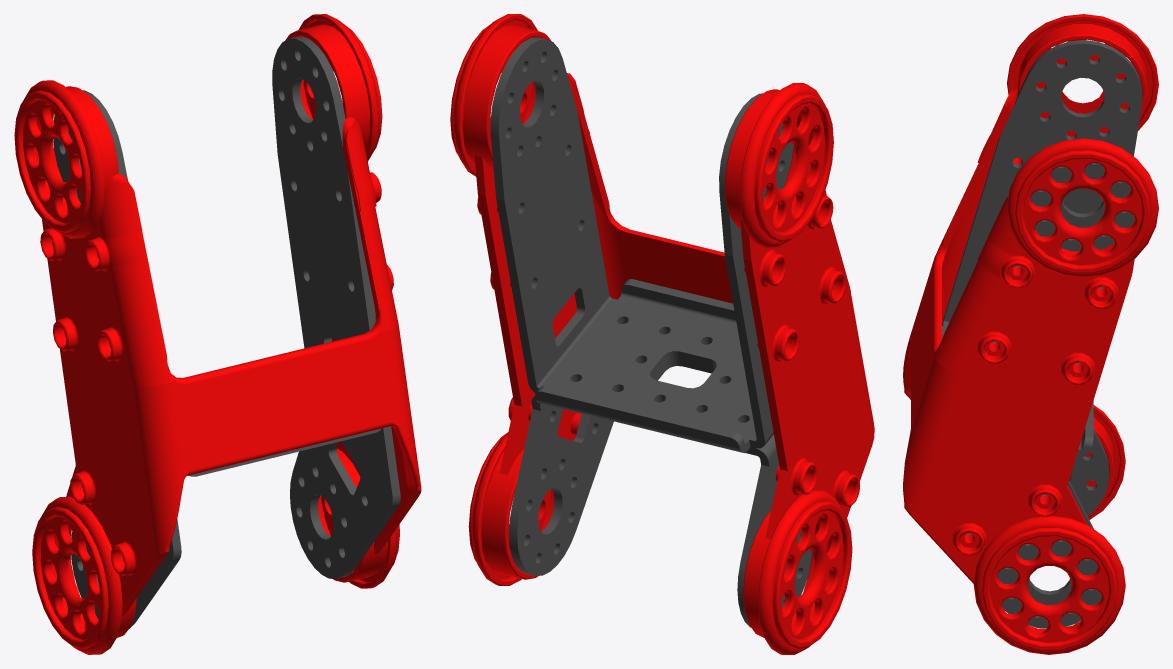
Rendered from upperleg-left.obj.
3 renders of one model, left to right at view 1: azimuth 30°, elevation 25°; view 2: azimuth 150°, elevation 25°; view 3: azimuth 270°, elevation 25°, orthographic. The views are drawn at different scales.
Parts seen in each view (by area): view 1: Solid1; view 2: Solid1; view 3: Solid1.
Boxes of the visible parts, x1,y1,x2,y2 form: Solid1: (14,14,421,654); Solid1: (450,14,874,654); Solid1: (903,14,1158,654).
Size of the model in its own units: 2.33 by 4.12 by 1.86.
